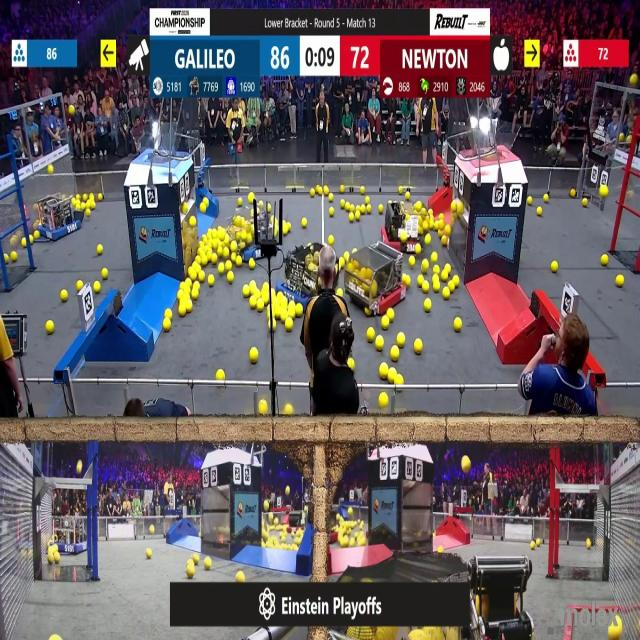ball_airborne: (461, 456, 470, 472), (630, 73, 638, 85), (68, 106, 75, 116), (621, 134, 626, 143), (48, 166, 52, 175)
ball_ground: (608, 626, 620, 640), (414, 340, 423, 355), (258, 402, 267, 417), (390, 347, 399, 361), (250, 348, 258, 363), (45, 320, 53, 334), (396, 334, 404, 348), (285, 318, 293, 332), (380, 393, 388, 407), (237, 570, 246, 582), (186, 268, 195, 280), (381, 363, 388, 378), (454, 318, 462, 331), (376, 338, 384, 351), (600, 184, 608, 197), (284, 407, 293, 418), (187, 564, 194, 578), (366, 327, 373, 341), (388, 368, 395, 382), (204, 558, 212, 570), (178, 306, 186, 318), (382, 316, 389, 329), (394, 374, 402, 385), (422, 282, 430, 293), (217, 367, 224, 379), (618, 275, 625, 287), (424, 300, 431, 312), (444, 287, 451, 299), (165, 319, 172, 331), (422, 262, 429, 274), (249, 296, 256, 308), (250, 284, 257, 296), (343, 574, 352, 583), (190, 289, 198, 299), (402, 276, 410, 286), (432, 283, 440, 293), (601, 254, 608, 265), (348, 358, 355, 369), (208, 275, 215, 286), (218, 264, 225, 275), (385, 308, 392, 319), (280, 310, 287, 321), (552, 262, 558, 274), (244, 285, 250, 297), (95, 281, 101, 293), (62, 290, 68, 302), (295, 306, 301, 318), (272, 308, 278, 320), (76, 461, 82, 473), (10, 251, 17, 261), (211, 253, 218, 263), (348, 212, 355, 222), (256, 302, 263, 312), (424, 236, 431, 246), (222, 247, 229, 257), (264, 282, 271, 292), (264, 293, 271, 303), (316, 185, 323, 195), (226, 273, 232, 284), (102, 269, 108, 280), (236, 255, 242, 266), (249, 260, 255, 271), (192, 554, 198, 565), (452, 202, 458, 213), (189, 216, 195, 227), (432, 266, 439, 275), (199, 273, 206, 282), (302, 218, 309, 227), (165, 310, 172, 319), (346, 203, 353, 212), (359, 537, 366, 546), (186, 303, 192, 313), (98, 245, 104, 255), (146, 549, 152, 559), (431, 253, 437, 263), (76, 280, 82, 290), (225, 262, 231, 272), (327, 236, 333, 246), (416, 244, 422, 254), (282, 224, 288, 234), (55, 554, 61, 564), (417, 276, 423, 286), (354, 211, 360, 221), (454, 277, 460, 287), (445, 224, 451, 234), (48, 554, 54, 564), (218, 246, 224, 256), (364, 206, 371, 214), (362, 576, 370, 583), (432, 274, 439, 282), (349, 538, 356, 546), (411, 255, 416, 266), (443, 237, 449, 246), (570, 188, 576, 197), (443, 273, 449, 282), (4, 253, 10, 262), (248, 192, 254, 201), (201, 204, 207, 213), (449, 281, 455, 290), (338, 288, 344, 297), (271, 288, 277, 297), (587, 538, 592, 548), (265, 500, 270, 510), (364, 198, 371, 205), (98, 192, 104, 200), (581, 200, 587, 208), (180, 281, 186, 289), (194, 255, 200, 263), (530, 540, 536, 548), (202, 256, 208, 264), (23, 239, 29, 247), (34, 233, 40, 241), (341, 202, 347, 210), (149, 526, 155, 534), (237, 199, 243, 207), (445, 265, 451, 273), (272, 320, 277, 329), (341, 258, 346, 267), (364, 308, 369, 317), (192, 281, 198, 288), (439, 545, 445, 552), (184, 279, 190, 286), (87, 209, 93, 216), (310, 189, 316, 196), (328, 208, 333, 216), (50, 635, 58, 640), (324, 185, 328, 195), (434, 221, 439, 229), (543, 193, 547, 202), (537, 207, 541, 216), (380, 205, 384, 214), (179, 298, 185, 304), (440, 213, 445, 220), (341, 185, 346, 192), (535, 538, 540, 545), (82, 193, 87, 200), (528, 198, 532, 206), (328, 193, 332, 201), (178, 290, 182, 298), (92, 202, 96, 210), (408, 194, 412, 202), (352, 248, 357, 254), (345, 252, 349, 259), (360, 186, 364, 193)
goal: (466, 120, 520, 160), (130, 129, 189, 161)
robot_blue: (225, 202, 279, 262), (278, 243, 320, 305), (35, 193, 84, 242), (55, 516, 88, 554)
robot_red: (343, 249, 400, 312), (382, 200, 430, 253)
